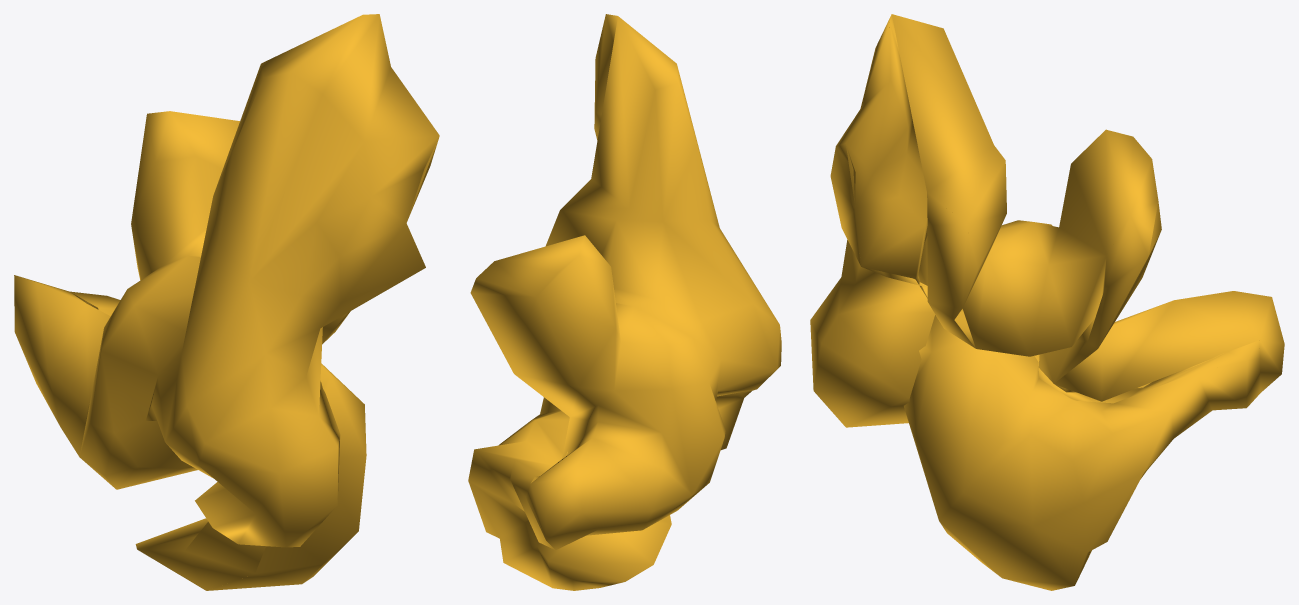
Rendered from nervoso-subparietal-sulcus-r.glb.
3 views of the same model, side by side, from view 1: azimuth 30°, elevation 25°; view 2: azimuth 150°, elevation 25°; view 3: azimuth 270°, elevation 25° (orthographic). The views are drawn at different scales.
Parts seen in each view (by area): view 1: Subparietal sulcus.r; view 2: Subparietal sulcus.r; view 3: Subparietal sulcus.r.
Part boxes in pixels (x1,y1,x2,y2): Subparietal sulcus.r: (14,14,439,590); Subparietal sulcus.r: (468,14,781,590); Subparietal sulcus.r: (810,14,1284,590).
Bounding box in the file's own units: 0.0151 × 0.0358 × 0.0266.
